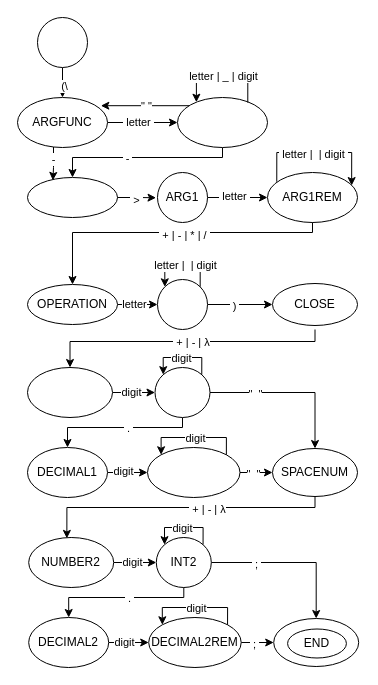
The diagram is 378 pixels wide and 685 high, and some of its shapes have lost their labels. The centre of each missing label's shape, as x and y in pixels:
"<LF>" belongs at (x=62, y=42).
"ARG2" belongs at (x=182, y=304).
"ARGFUNCREM" belongs at (x=222, y=122).
"ARROW" belongs at (x=72, y=197).
"DECIMAL1REM" belongs at (x=193, y=472).
"INT1" belongs at (x=182, y=392).
"NUMBER1" belongs at (x=69, y=392).
